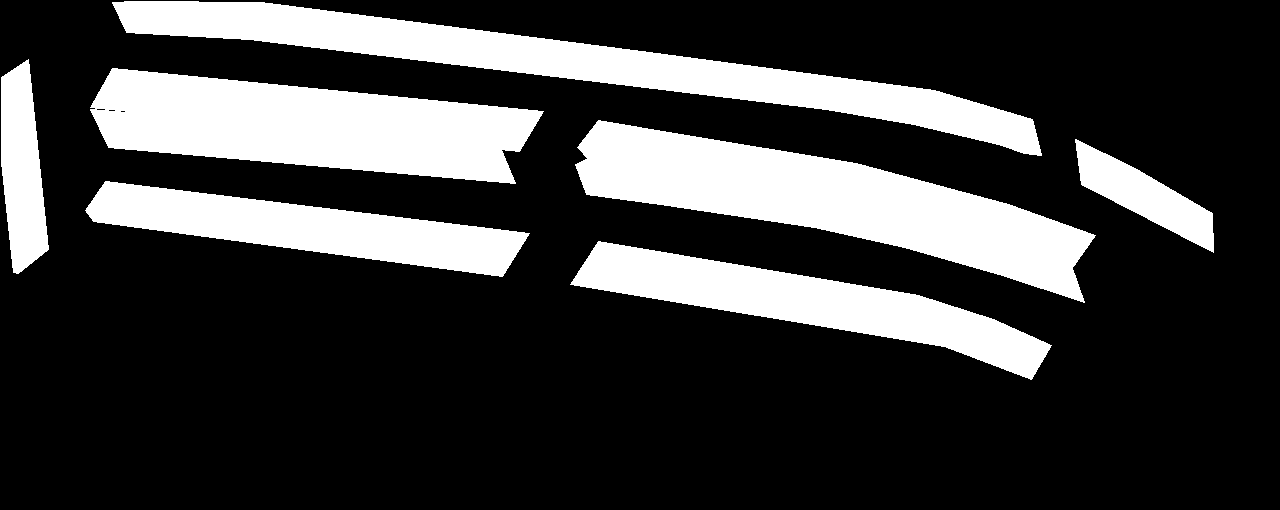parkingspot: (111, 1, 1041, 155), (576, 120, 1095, 269), (574, 158, 1084, 302), (569, 241, 1051, 379), (84, 181, 529, 276), (89, 68, 543, 151), (89, 109, 515, 183), (1074, 139, 1213, 252), (0, 59, 48, 273)
